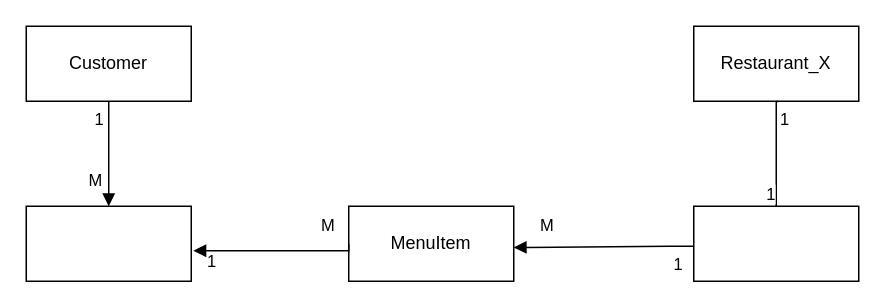
The diagram is 885 pixels wide and 308 high, and some of its shapes have lost their labels. Here are the shapes that lost their labels. From the top down, the centre of each, then its label:
At [108,243]: "Order".
At [775,243]: "Menu".
